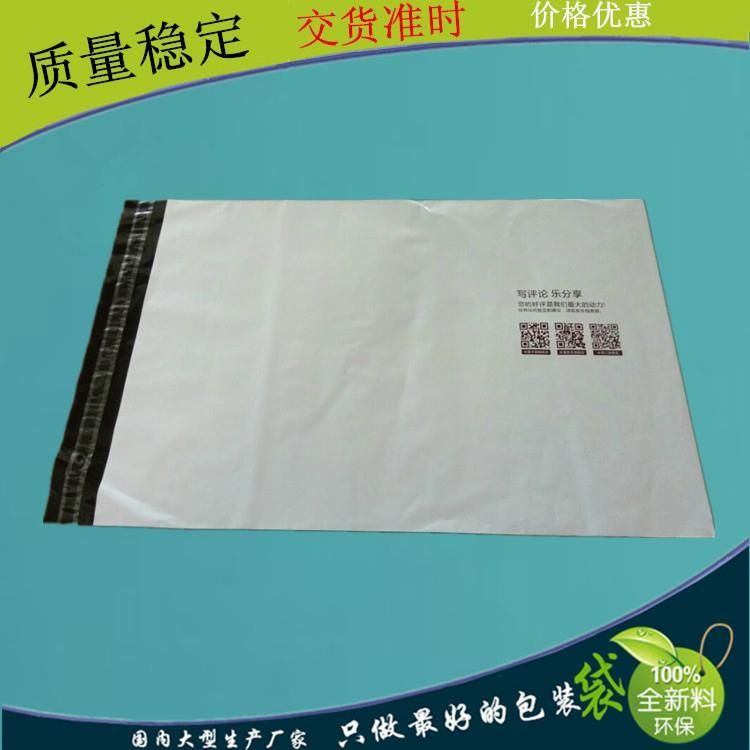塑料袋: (45, 200, 713, 536)
